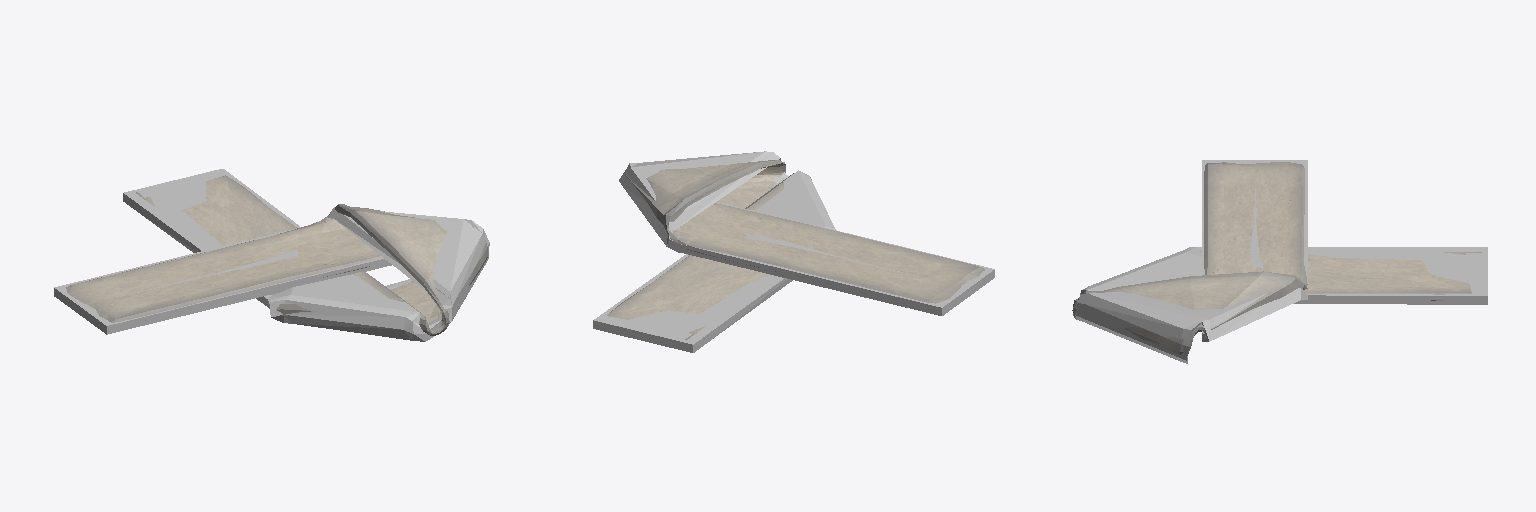
The picture shows the model from 3 angles: view 1: azimuth 30°, elevation 25°; view 2: azimuth 150°, elevation 25°; view 3: azimuth 270°, elevation 25°; orthographic projection.
Visible parts, largest first — view 1: note_low, Plane; view 2: note_low, Plane; view 3: note_low, Plane.
Boxes of the visible parts, x1,y1,x2,y2 form: note_low: [66, 175, 488, 335]; Plane: [54, 169, 489, 341]; note_low: [607, 160, 984, 339]; Plane: [593, 151, 994, 352]; note_low: [1072, 162, 1481, 354]; Plane: [1075, 160, 1487, 363].
Bounding box in the file's own units: 0.9178 × 0.1355 × 0.8771.
Materials: 2 (1 with a texture image).